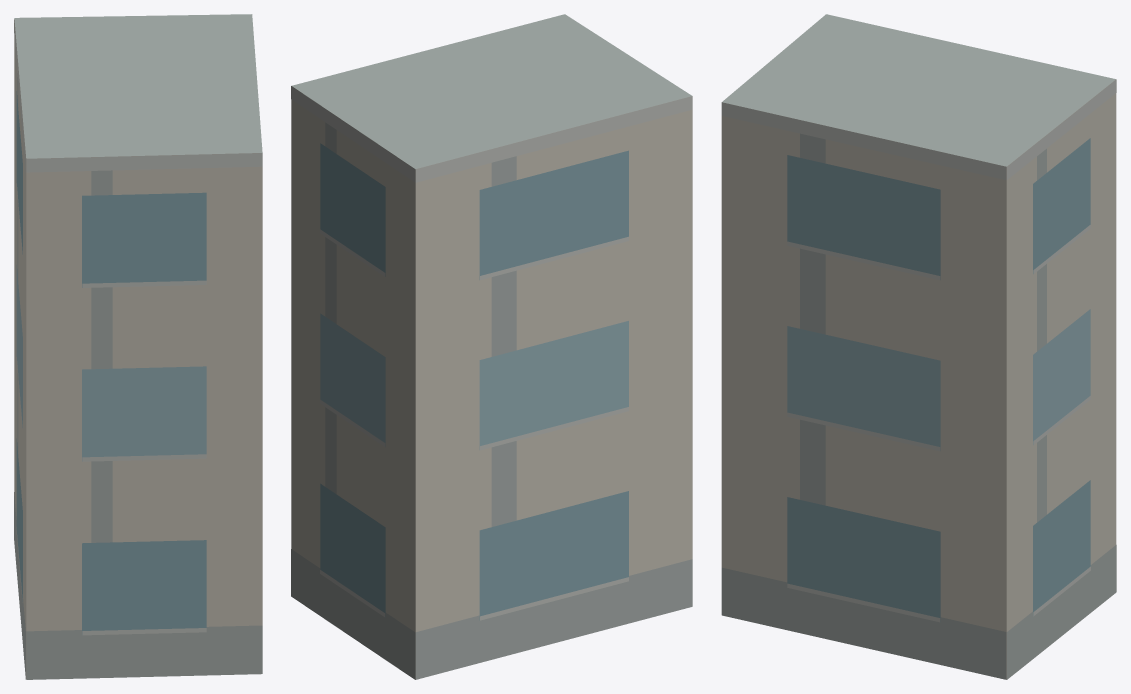
File: survey-upis-32985330.glb
The picture shows the model from 3 angles, left to right: view 1: azimuth 30°, elevation 25°; view 2: azimuth 150°, elevation 25°; view 3: azimuth 270°, elevation 25°; orthographic projection. The views are drawn at different scales.
Visible parts, largest first — view 1: survey-upis-32985330.tmp; view 2: survey-upis-32985330.tmp; view 3: survey-upis-32985330.tmp.
Part boxes in pixels (left/top/right/bottom): survey-upis-32985330.tmp: left=14, top=14, right=262, bottom=679; survey-upis-32985330.tmp: left=291, top=14, right=692, bottom=679; survey-upis-32985330.tmp: left=721, top=14, right=1116, bottom=679.
Size of the model in its own units: 5.85 by 9.15 by 6.39.
